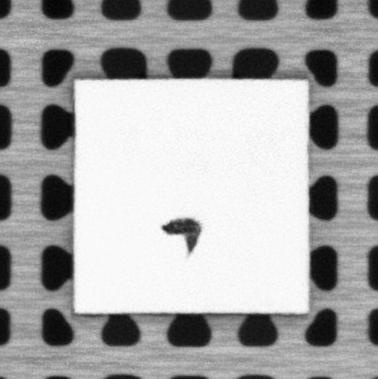DIE_INK: (161, 215, 203, 256)
